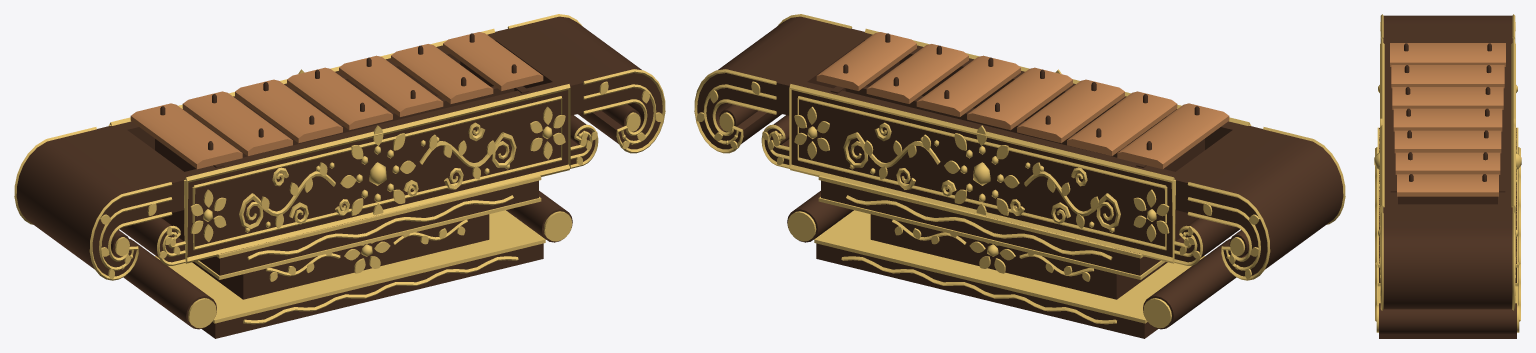
Rendered from gamelar_saron_barung_set.fbx.
3 views of the same model, side by side, from view 1: azimuth 30°, elevation 25°; view 2: azimuth 150°, elevation 25°; view 3: azimuth 270°, elevation 25° (orthographic). The views are drawn at different scales.
Parts seen in each view (by area): view 1: SaronBarungSet_Mesh; view 2: SaronBarungSet_Mesh; view 3: SaronBarungSet_Mesh.
Part boxes in pixels (left/top/right/bottom): SaronBarungSet_Mesh: left=14, top=14, right=665, bottom=338; SaronBarungSet_Mesh: left=694, top=14, right=1345, bottom=338; SaronBarungSet_Mesh: left=1374, top=14, right=1521, bottom=338.
Size of the model in its own units: 0.9847 by 0.2994 by 0.2496.
